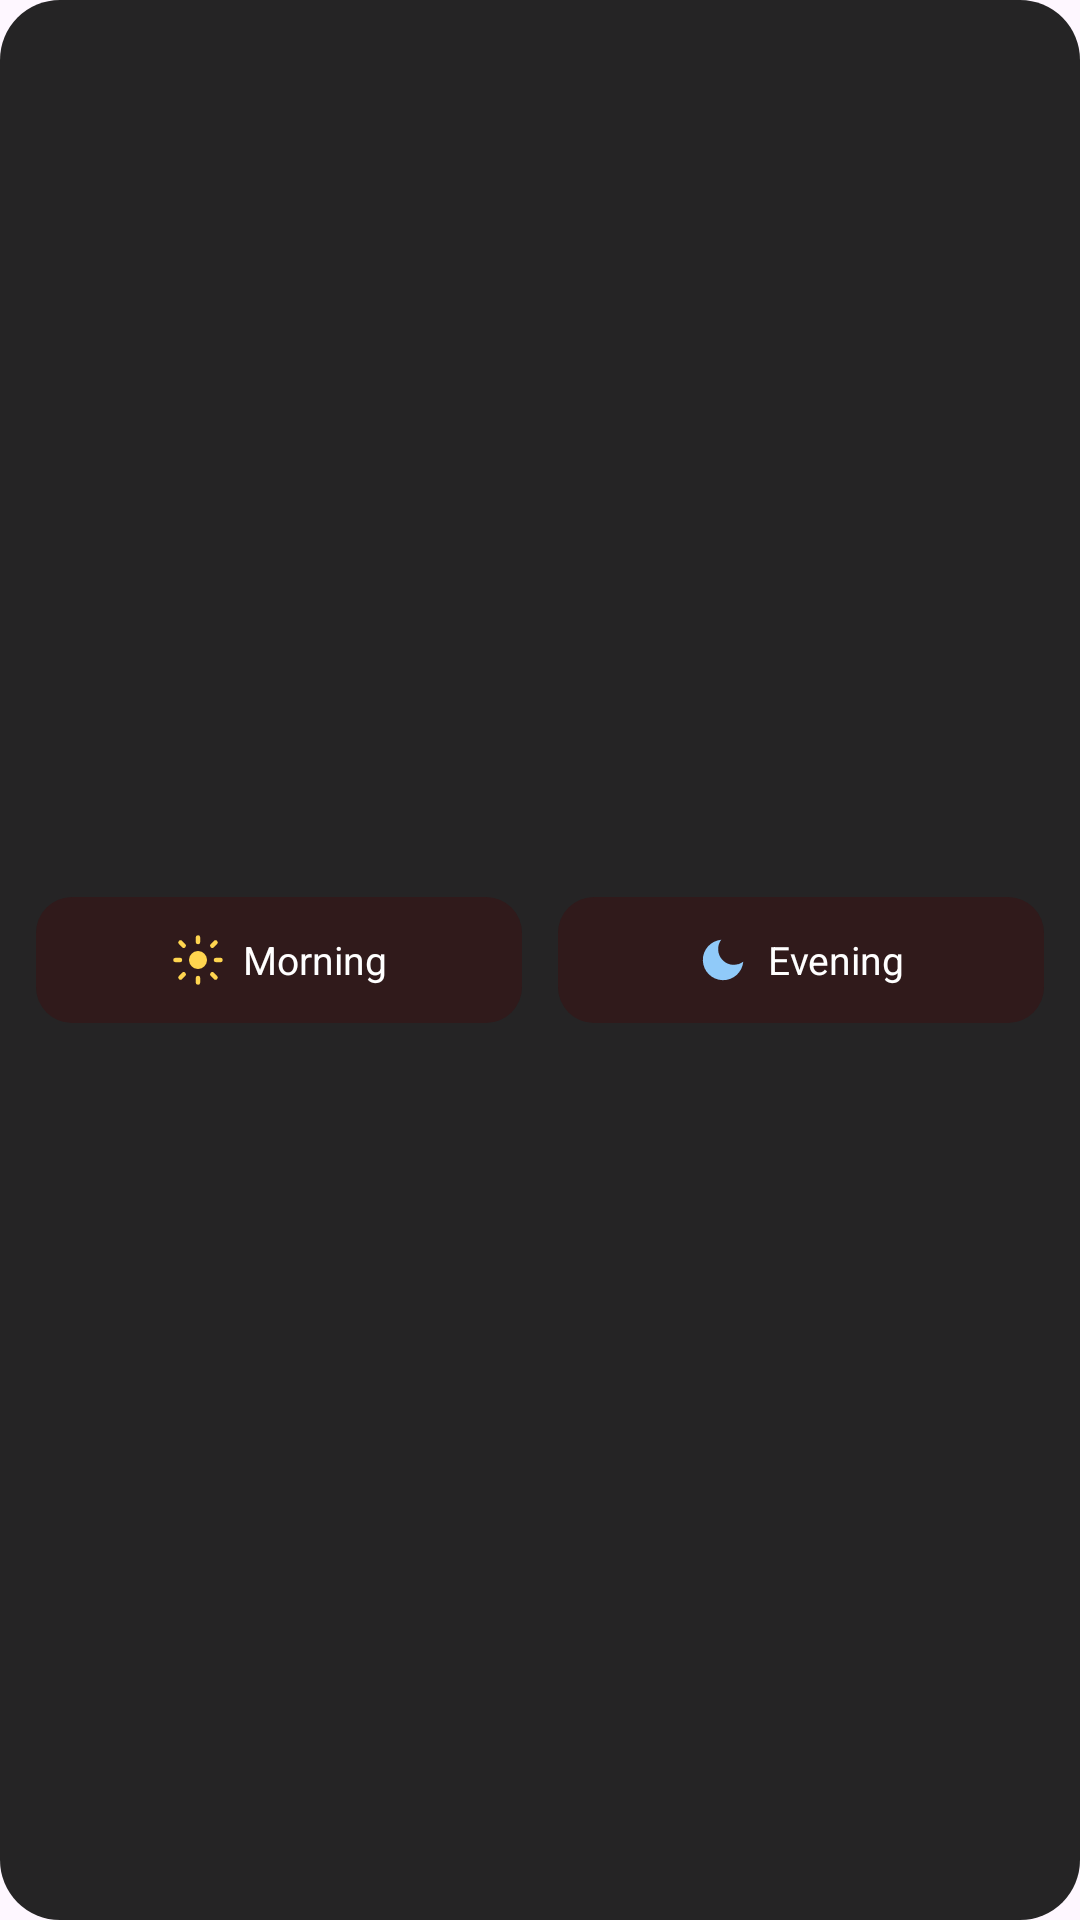

Where icons sit on this 1080*1920 app screen, as (left=x1, top=y1, right=x2, bottom=y2):
widget moon: (left=702, top=939, right=744, bottom=981)
widget sun: (left=173, top=935, right=223, bottom=985)
